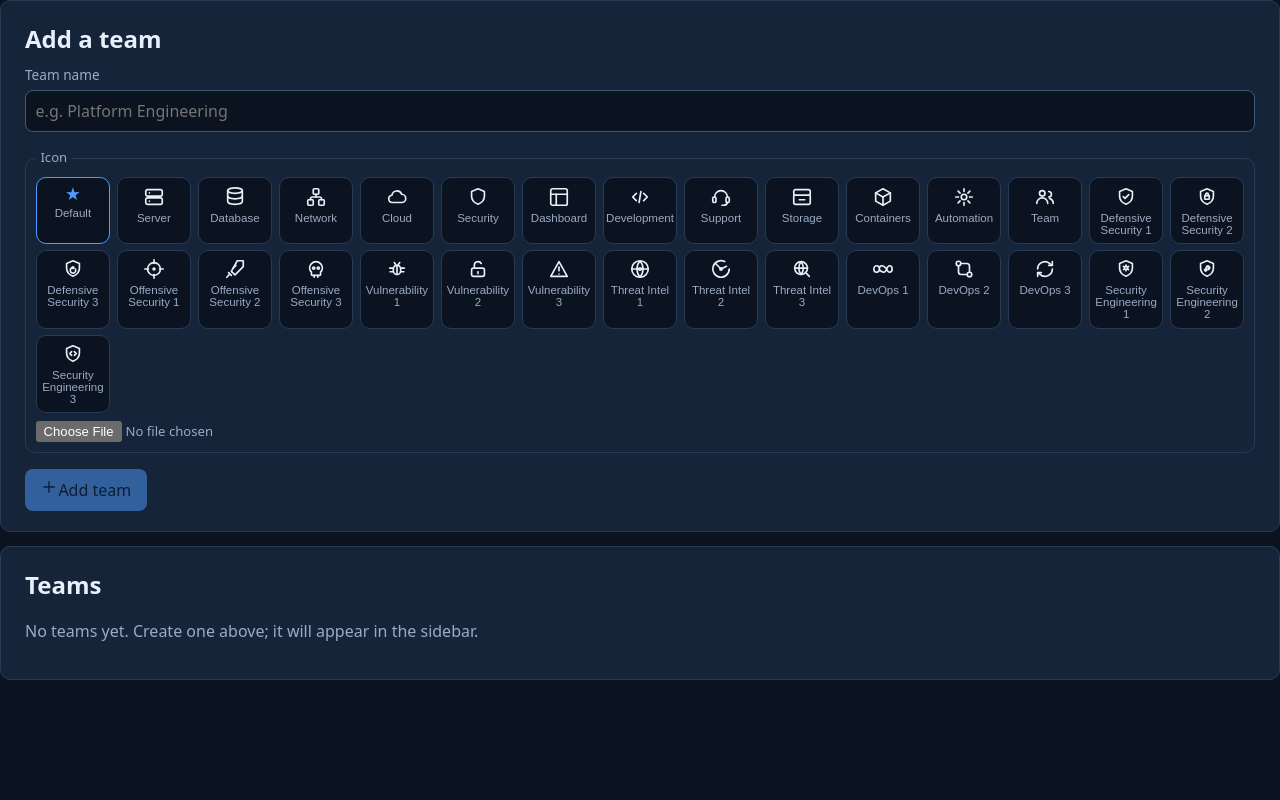
Test: TeamManagement › creates a team via the add form
This screenshot has width=1280, height=800.
Expected: the text "No teams yet" is shown, left=25, top=620, right=478, bottom=642
In the field labelled "Team name": point(640, 111) left=25, top=90, right=1255, bottom=132, type "Platform"
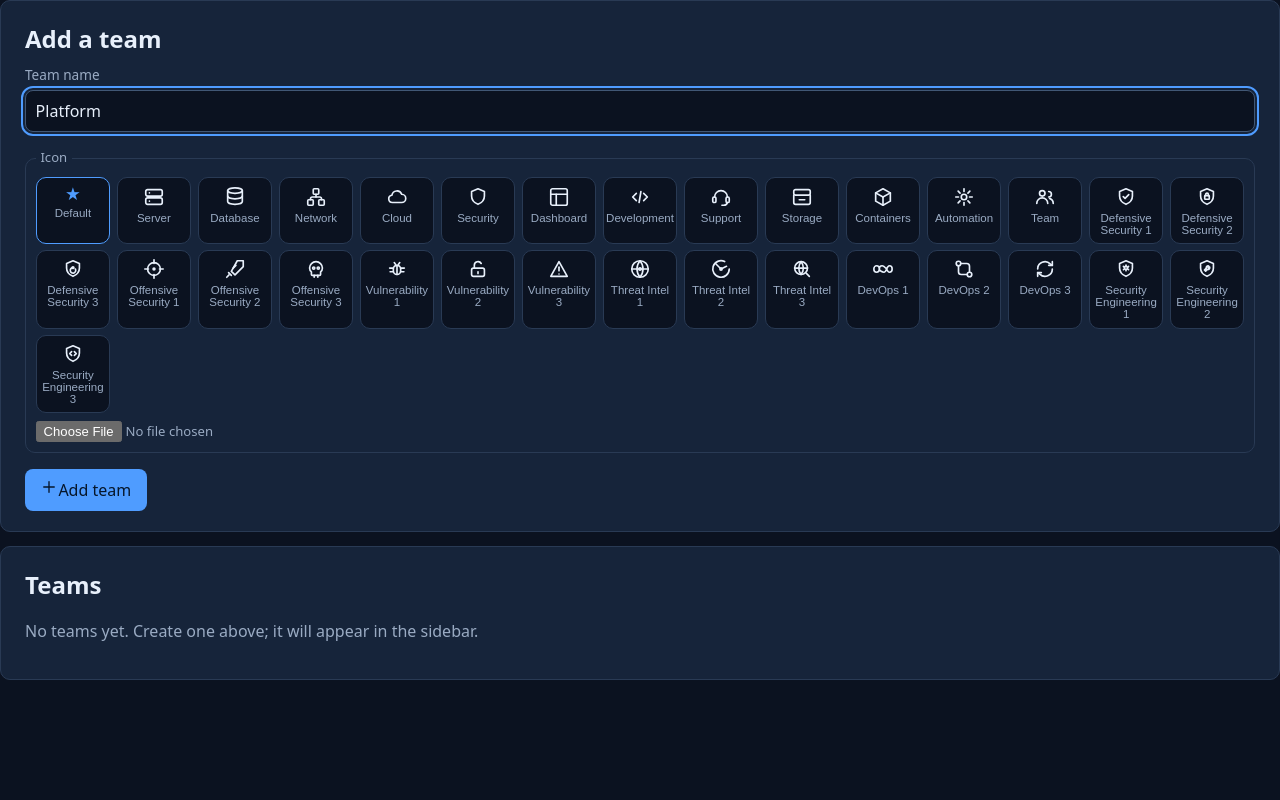
Click the button "Add team": point(86, 490) left=25, top=469, right=147, bottom=511
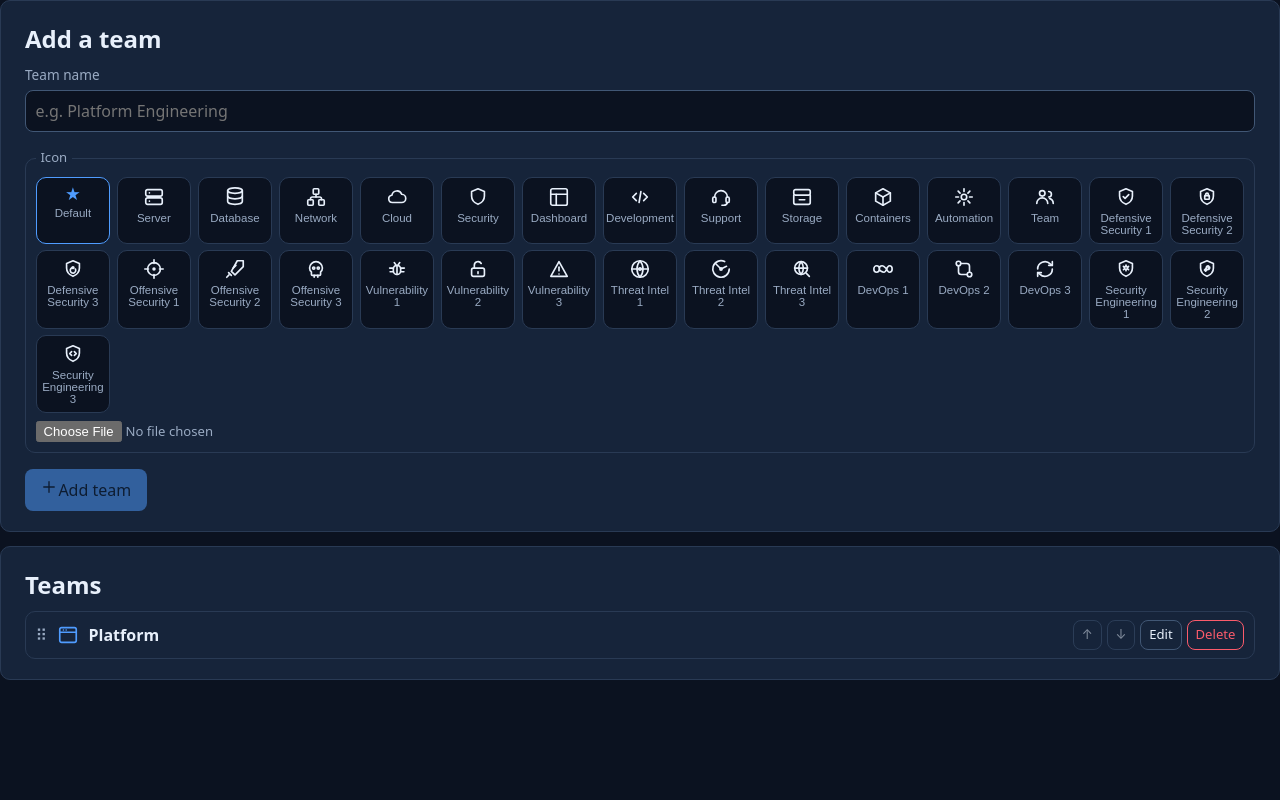
Expected: the text "Platform" is shown, left=88, top=624, right=159, bottom=646
